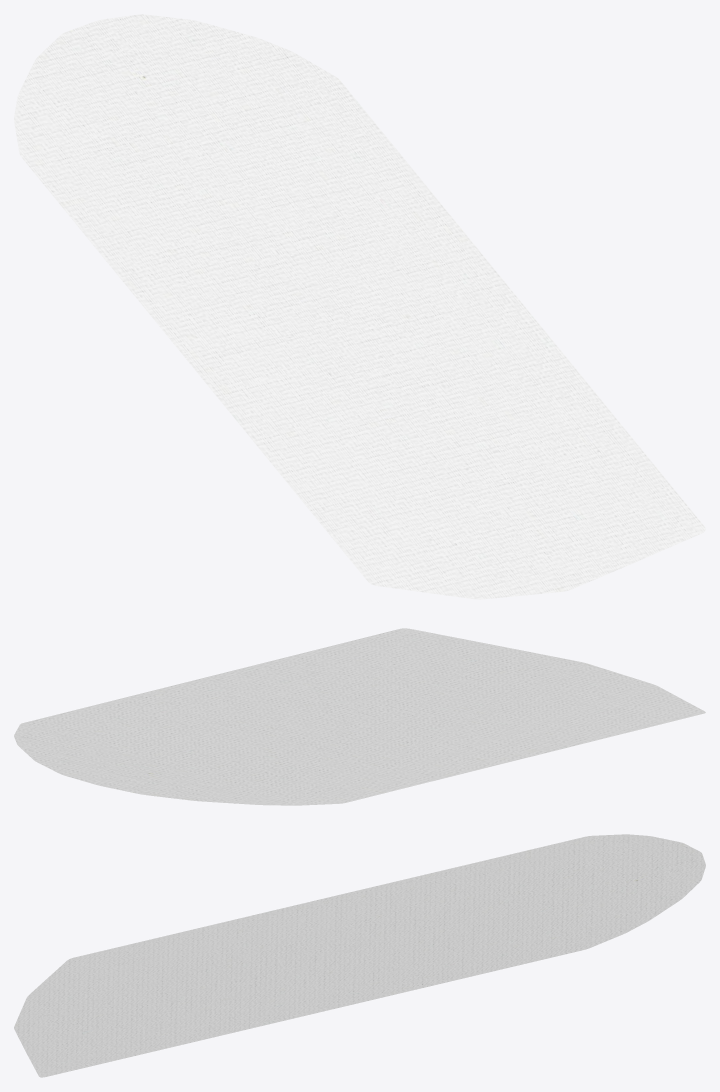
Rendered from Tapa.obj.
3 renders of one model, top to bottom at view 1: azimuth 30°, elevation 25°; view 2: azimuth 150°, elevation 25°; view 3: azimuth 270°, elevation 25°, orthographic. The views are drawn at different scales.
Visible parts, largest first — view 1: pTorus25; view 2: pTorus25; view 3: pTorus25.
Boxes of the visible parts, <box> form: pTorus25: <box>14,14,705,599</box>; pTorus25: <box>14,628,705,805</box>; pTorus25: <box>14,834,705,1077</box>.
Size of the model in its own units: 5.05 by 3.36 by 12.85.
